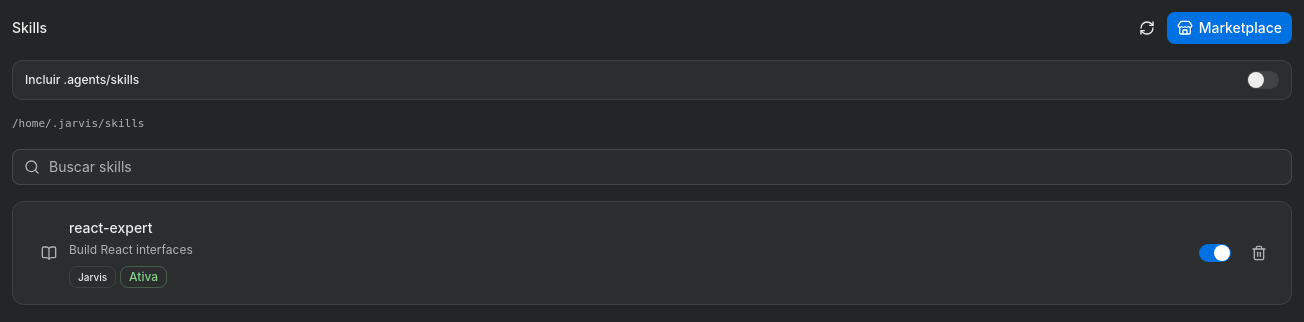
Scenario: SkillsSettings › mostra a pasta do Jarvis por padrão e inclui .agents pelo switch
Expected: the button with aria-label "Detalhes de react-expert" is shown, [29, 218, 1187, 288]
Expected: the text "/home/.jarvis/skills" is shown, [12, 117, 144, 130]
What coordinates should you click on to do the following:
click the switch named "Incluir .agents/skills"
I would click on:
 (1263, 80)
Its box is [1247, 71, 1279, 89].
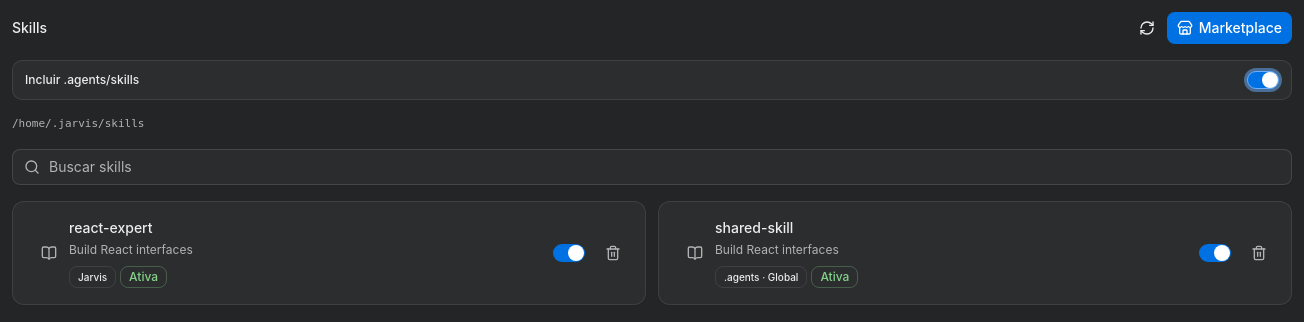
Expected: the button with aria-label "Detalhes de shared-skill" is shown, [675, 218, 1187, 288]
